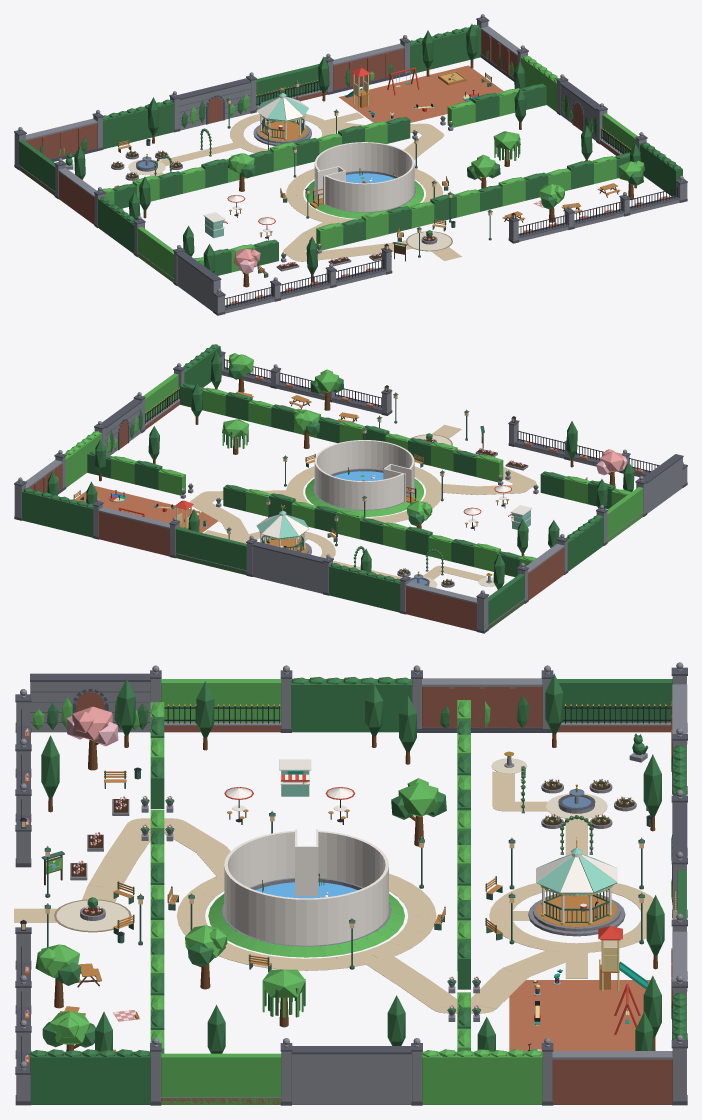
Rendered from CatCafe_Park_Set.fbx.
The picture shows the model from 3 angles, top to bottom: view 1: azimuth 30°, elevation 25°; view 2: azimuth 150°, elevation 25°; view 3: azimuth 270°, elevation 25°; orthographic projection. The views are drawn at different scales.
Parts seen in each view (by area): view 1: CatCafe_Park_Set, CatCafe_Park_Set_045_Hedge, CatCafe_Park_Set_050_Hedge, CatCafe_Park_Set_075_Pond_Barrier, CatCafe_Park_Set_006_WallStone, CatCafe_Park_Set_002_WallBrick, CatCafe_Park_Set_094_Bandstand, CatCafe_Park_Set_008_WallHedge, CatCafe_Park_Set_010_WallBrick, CatCafe_Park_Set_000_WallHedge, CatCafe_Park_Set_004_WallRail, CatCafe_Park_Set_011_WallStone (+23 smaller); view 2: CatCafe_Park_Set_050_Hedge, CatCafe_Park_Set_045_Hedge, CatCafe_Park_Set, CatCafe_Park_Set_075_Pond_Barrier, CatCafe_Park_Set_006_WallStone, CatCafe_Park_Set_000_WallHedge, CatCafe_Park_Set_008_WallHedge, CatCafe_Park_Set_002_WallBrick, CatCafe_Park_Set_010_WallBrick, CatCafe_Park_Set_004_WallRail, CatCafe_Park_Set_094_Bandstand, CatCafe_Park_Set_011_WallStone (+20 smaller); view 3: CatCafe_Park_Set, CatCafe_Park_Set_075_Pond_Barrier, CatCafe_Park_Set_024_WallStone, CatCafe_Park_Set_022_WallHedge, CatCafe_Park_Set_028_WallHedge, CatCafe_Park_Set_020_WallBrick, CatCafe_Park_Set_026_WallRail, CatCafe_Park_Set_017_WallBrick, CatCafe_Park_Set_094_Bandstand, CatCafe_Park_Set_019_WallRail, CatCafe_Park_Set_013_WallRail, CatCafe_Park_Set_015_WallHedge (+36 smaller).
Part boxes in pixels (<box>): CatCafe_Park_Set: <box>128,65,503,261</box>; CatCafe_Park_Set_045_Hedge: <box>194,152,630,275</box>; CatCafe_Park_Set_050_Hedge: <box>97,83,546,208</box>; CatCafe_Park_Set_075_Pond_Barrier: <box>314,142,414,211</box>; CatCafe_Park_Set_006_WallStone: <box>178,78,251,130</box>; CatCafe_Park_Set_002_WallBrick: <box>333,43,404,93</box>; CatCafe_Park_Set_094_Bandstand: <box>253,86,311,145</box>; CatCafe_Park_Set_008_WallHedge: <box>103,99,173,149</box>; CatCafe_Park_Set_010_WallBrick: <box>26,118,97,161</box>; CatCafe_Park_Set_000_WallHedge: <box>410,24,481,74</box>; CatCafe_Park_Set_004_WallRail: <box>256,64,327,109</box>; CatCafe_Park_Set_011_WallStone: <box>176,252,221,311</box>; CatCafe_Park_Set_050_Hedge: <box>87,451,536,576</box>; CatCafe_Park_Set_045_Hedge: <box>180,383,631,508</box>; CatCafe_Park_Set: <box>76,424,536,587</box>; CatCafe_Park_Set_075_Pond_Barrier: <box>314,440,414,509</box>; CatCafe_Park_Set_006_WallStone: <box>252,541,325,593</box>; CatCafe_Park_Set_000_WallHedge: <box>22,488,93,537</box>; CatCafe_Park_Set_008_WallHedge: <box>329,563,400,612</box>; CatCafe_Park_Set_002_WallBrick: <box>98,507,169,556</box>; CatCafe_Park_Set_010_WallBrick: <box>405,582,477,631</box>; CatCafe_Park_Set_004_WallRail: <box>175,527,246,574</box>; CatCafe_Park_Set_094_Bandstand: <box>256,504,311,554</box>; CatCafe_Park_Set_011_WallStone: <box>643,454,683,513</box>; CatCafe_Park_Set: <box>14,758,662,1051</box>; CatCafe_Park_Set_075_Pond_Barrier: <box>224,829,388,945</box>; CatCafe_Park_Set_024_WallStone: <box>291,1046,412,1104</box>; CatCafe_Park_Set_022_WallHedge: <box>422,1049,542,1104</box>; CatCafe_Park_Set_028_WallHedge: <box>30,1049,150,1104</box>; CatCafe_Park_Set_020_WallBrick: <box>552,1051,673,1104</box>; CatCafe_Park_Set_026_WallRail: <box>160,1053,281,1104</box>; CatCafe_Park_Set_017_WallBrick: <box>421,678,542,732</box>; CatCafe_Park_Set_094_Bandstand: <box>528,837,625,936</box>; CatCafe_Park_Set_019_WallRail: <box>557,679,672,732</box>; CatCafe_Park_Set_013_WallRail: <box>161,679,281,732</box>; CatCafe_Park_Set_015_WallHedge: <box>291,677,411,732</box>.
Bounding box in the file's own units: 160 × 15.32 × 120.
Materials: 1 (1 with a texture image).
